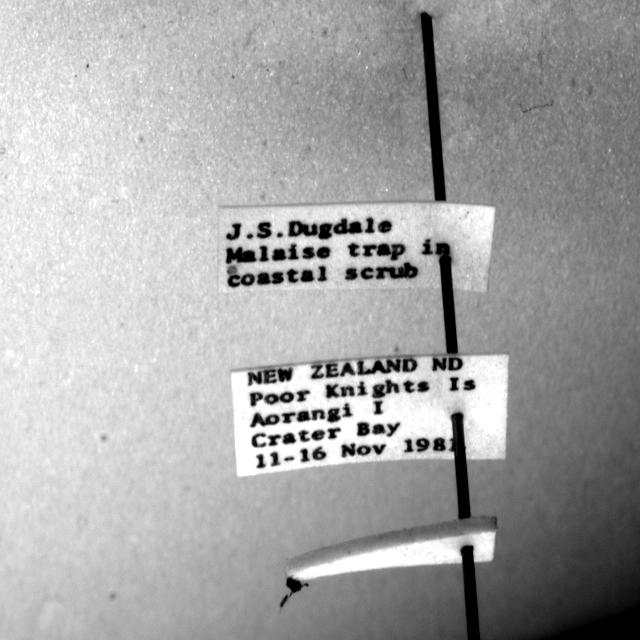typed_label: (231, 354, 509, 476), (219, 201, 495, 292)
